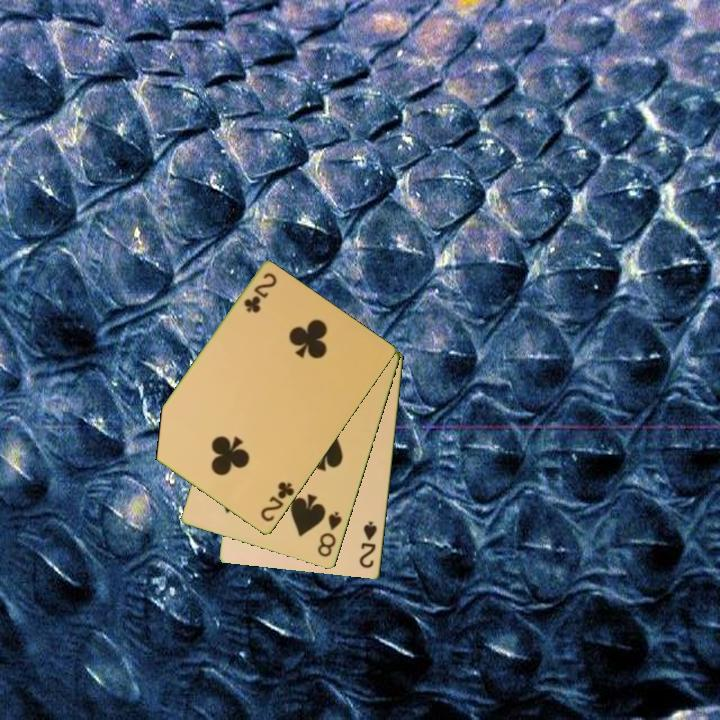2c: (257, 478, 297, 525), (240, 269, 280, 316)
2s: (356, 518, 380, 571)
8s: (314, 508, 345, 560)
